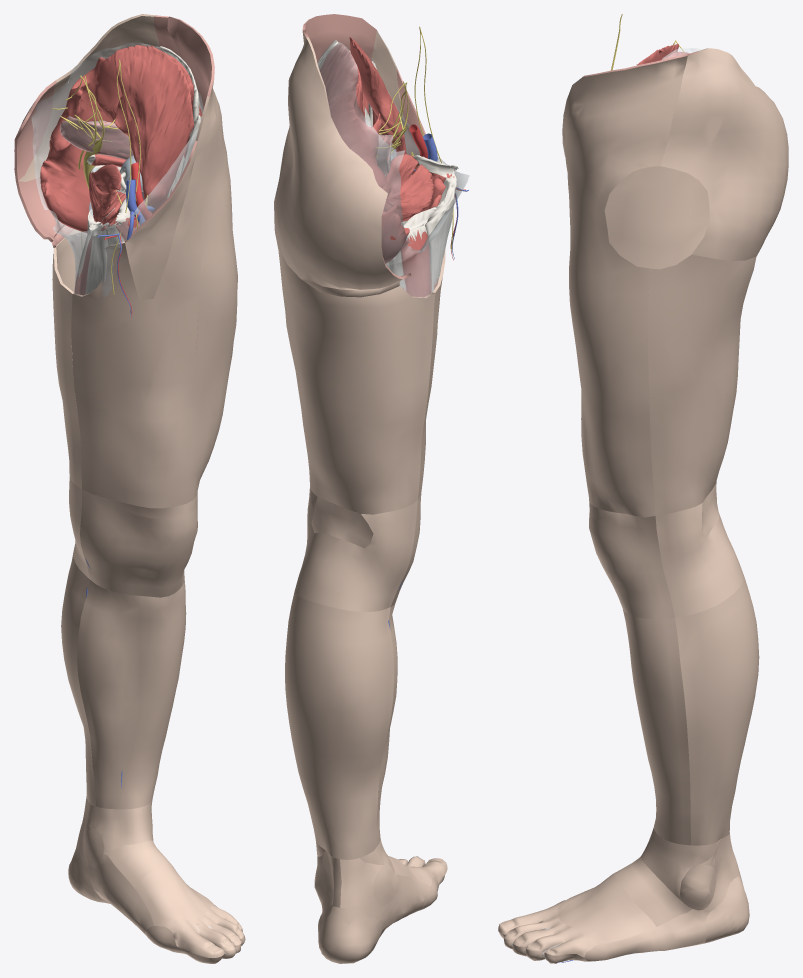
File: lower_limb_l.glb
3 views of the same model, side by side, from view 1: azimuth 30°, elevation 25°; view 2: azimuth 150°, elevation 25°; view 3: azimuth 270°, elevation 25° (orthographic). The views are drawn at different scales.
Parts seen in each view (by area): view 1: anterior_region_of_thigh_l, anterior_region_of_leg_l, anterior_region_of_knee_l, iliacus_muscle_l, gluteal_region_l, fascia_lata_l, gluteus_maximus_muscle_l, posterior_region_of_thigh_l, femoral_triangle_l, posterior_region_of_leg_l, metatarsal_region_l, dorsal_surfaces_of_digits_of_foot_l (+13 smaller); view 2: posterior_region_of_thigh_l, posterior_region_of_leg_l, gluteal_region_l, fascia_lata_l, posterior_region_of_knee_l, anterior_region_of_thigh_l, gluteus_maximus_muscle_l, heel_region_l, obturator_internus_l, iliacus_muscle_l, adductor_magnus_l, medial_retromalleolar_region_l (+15 smaller); view 3: anterior_region_of_thigh_l, posterior_region_of_thigh_l, gluteal_region_l, posterior_region_of_leg_l, anterior_region_of_leg_l, hip_region_l, posterior_region_of_knee_l, anterior_region_of_knee_l, metatarsal_region_l, dorsal_surfaces_of_digits_of_foot_l, lateral_border_of_foot_l, dorsum_of_foot_l (+6 smaller).
Part boxes in pixels (x1,y1,x2,y2): anterior_region_of_thigh_l: [71, 16, 237, 508]; anterior_region_of_leg_l: [77, 579, 186, 809]; anterior_region_of_knee_l: [80, 489, 197, 597]; iliacus_muscle_l: [114, 45, 194, 213]; gluteal_region_l: [14, 14, 180, 242]; fascia_lata_l: [31, 42, 203, 296]; gluteus_maximus_muscle_l: [40, 57, 122, 232]; posterior_region_of_thigh_l: [52, 229, 86, 488]; femoral_triangle_l: [124, 141, 197, 299]; posterior_region_of_leg_l: [61, 552, 95, 806]; metatarsal_region_l: [135, 864, 214, 927]; dorsal_surfaces_of_digits_of_foot_l: [168, 905, 243, 958]; posterior_region_of_thigh_l: [275, 233, 435, 514]; posterior_region_of_leg_l: [285, 593, 393, 859]; gluteal_region_l: [274, 30, 411, 290]; fascia_lata_l: [318, 42, 469, 297]; posterior_region_of_knee_l: [294, 487, 417, 611]; anterior_region_of_thigh_l: [302, 14, 452, 499]; gluteus_maximus_muscle_l: [328, 83, 409, 263]; heel_region_l: [318, 905, 382, 963]; obturator_internus_l: [383, 154, 433, 219]; iliacus_muscle_l: [349, 37, 406, 156]; adductor_magnus_l: [401, 206, 437, 297]; medial_retromalleolar_region_l: [340, 858, 388, 918]; anterior_region_of_thigh_l: [563, 54, 687, 517]; posterior_region_of_thigh_l: [647, 254, 756, 515]; gluteal_region_l: [660, 48, 788, 260]; posterior_region_of_leg_l: [675, 577, 759, 845]; anterior_region_of_leg_l: [623, 609, 690, 845]; hip_region_l: [604, 166, 709, 269]; posterior_region_of_knee_l: [655, 503, 744, 617]; anterior_region_of_knee_l: [589, 499, 674, 619]; metatarsal_region_l: [558, 874, 656, 945]; dorsal_surfaces_of_digits_of_foot_l: [498, 903, 594, 957]; lateral_border_of_foot_l: [584, 909, 709, 961]; dorsum_of_foot_l: [613, 856, 692, 926].
Size of the model in its own units: 0.1825 by 1.02 by 0.294.
